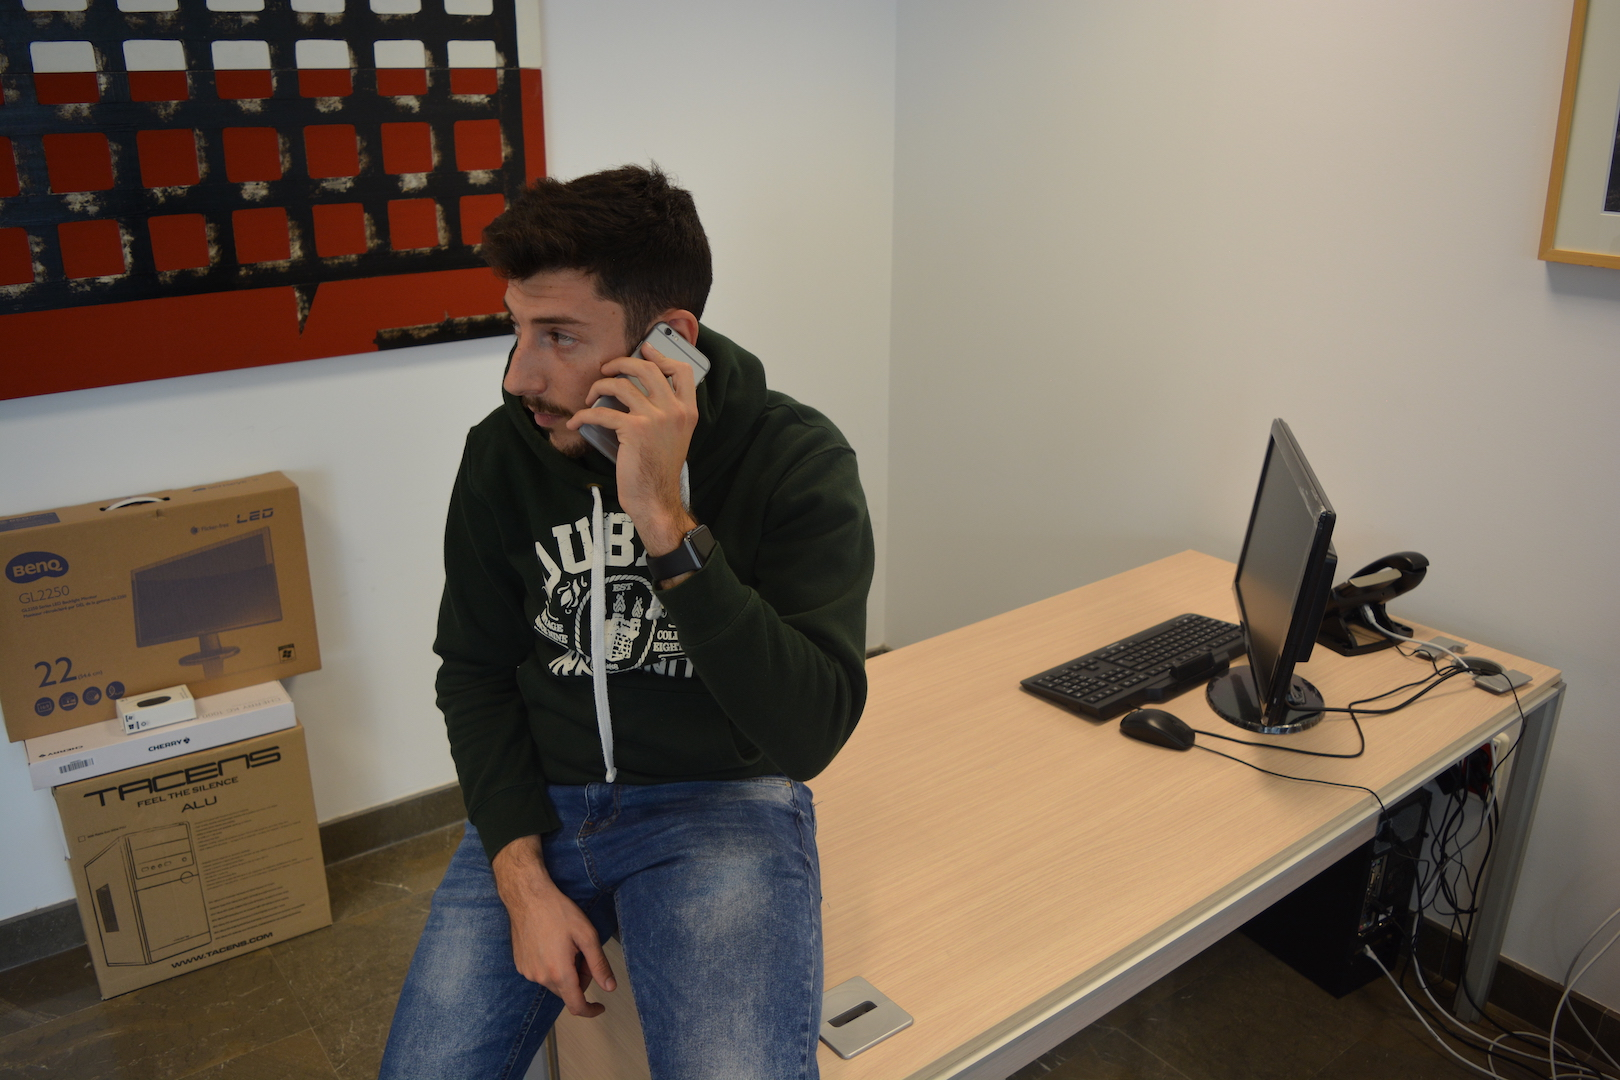smartphone: (579, 319, 712, 466)
